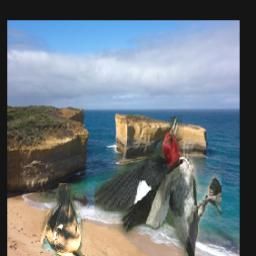Woodpecker: (94, 116, 222, 256), (39, 184, 95, 256)
